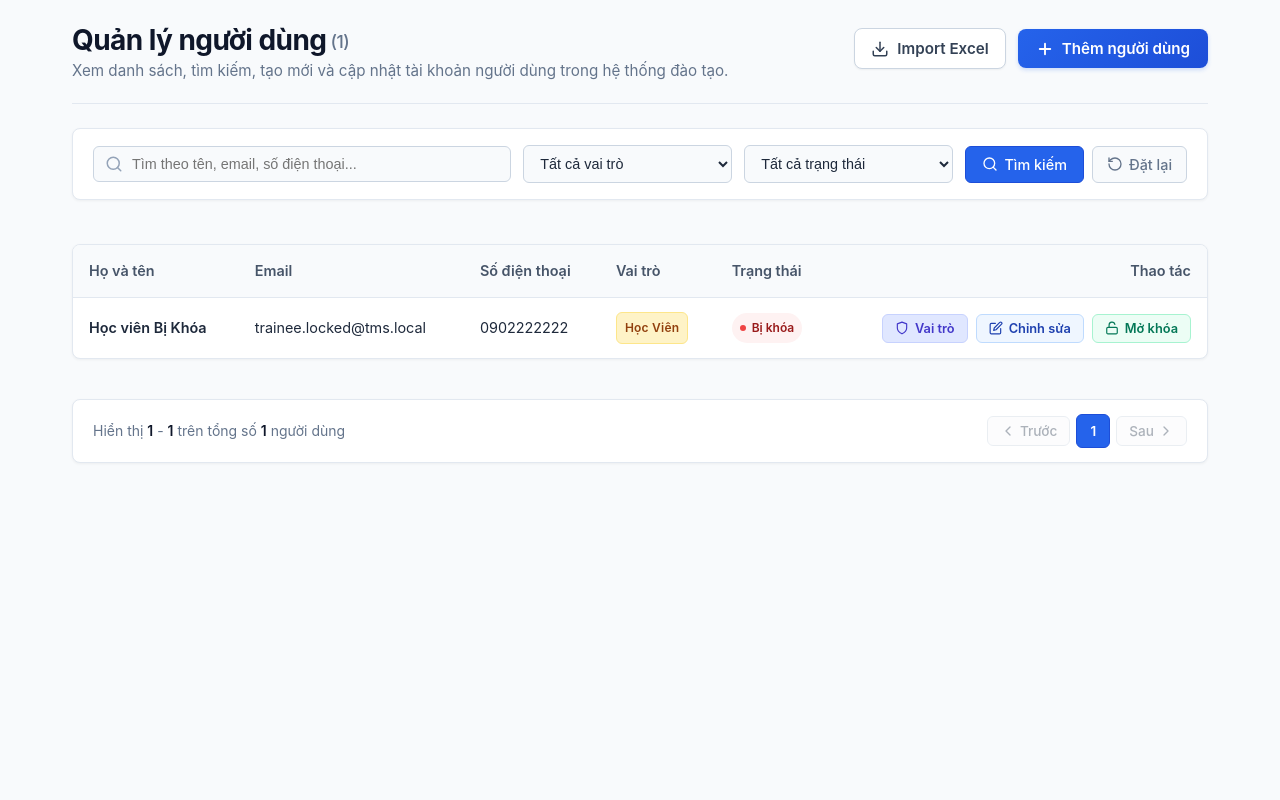
Scenario: SCRUM-110: Kiểm thử tổng thể giao diện khóa và mở khóa tài khoản (UI Overall Test Matrix) › C. Unlock Operation Matrix › 9. hiển thị modal xác nhận mở khóa với thông điệp rõ ràng
This screenshot has width=1280, height=800.
Click the button with test id "btn-unlock-user-u-trainee-2": (1141, 328) [1092,314,1191,343]
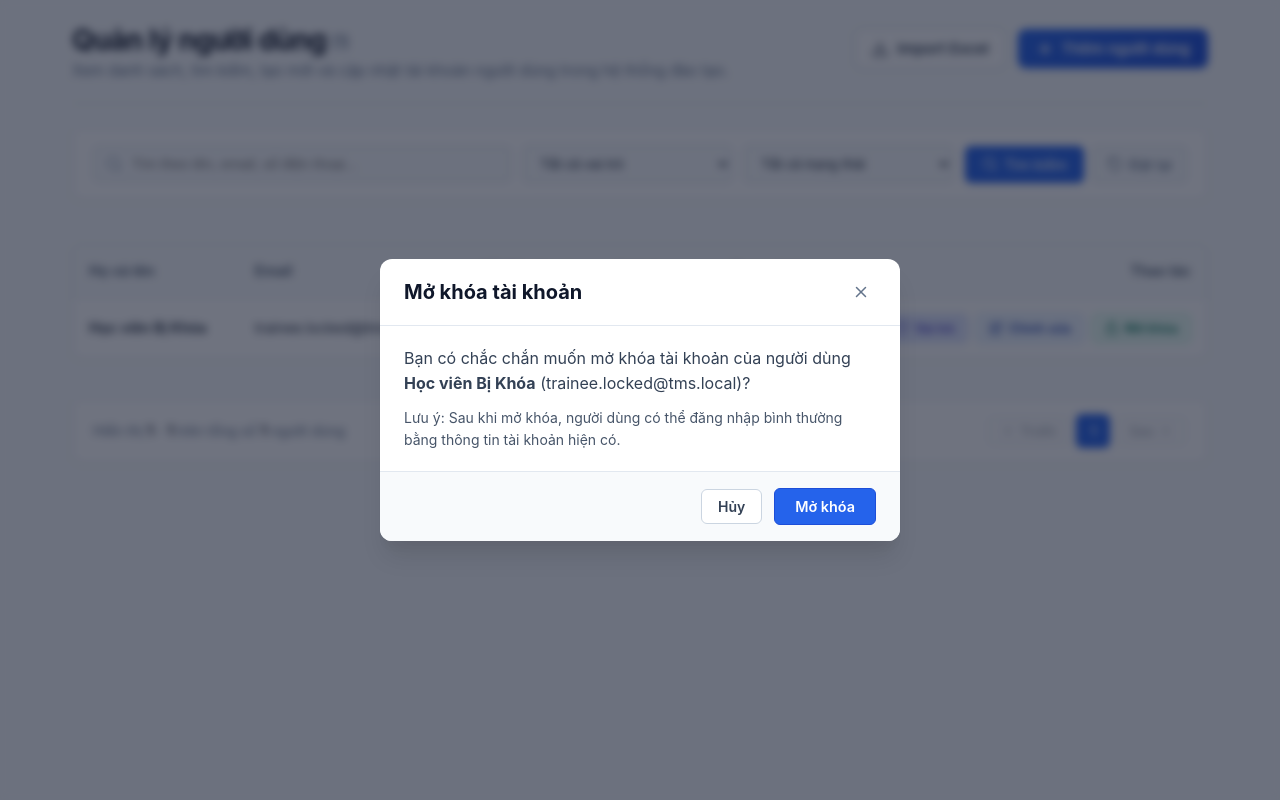
Result: the dialog with test id "account-lock-modal" is shown at [380,258,900,542]
Result: the heading "Mở khóa tài khoản" is shown at [404,280,582,304]
Result: the text with test id "lock-user-name" reads "Học viên Bị Khóa" at [404,373,536,393]
